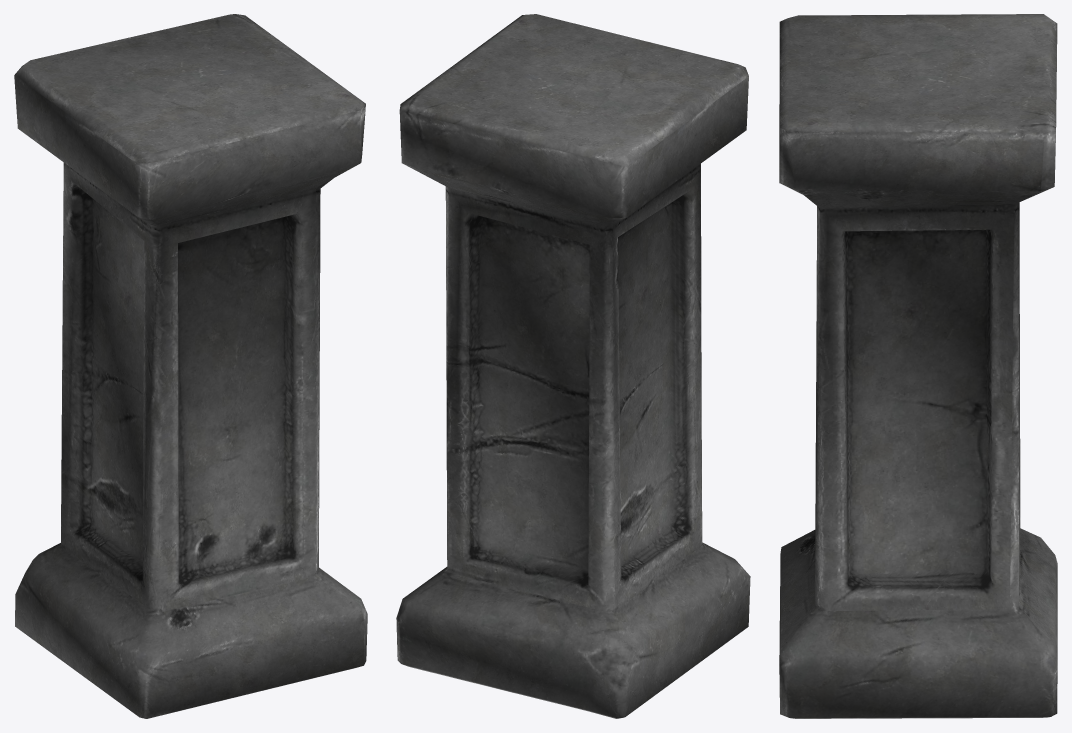
The picture shows the model from 3 angles, left to right: view 1: azimuth 30°, elevation 25°; view 2: azimuth 150°, elevation 25°; view 3: azimuth 270°, elevation 25°; orthographic projection. The views are drawn at different scales.
Parts seen in each view (by area): view 1: Pillar_lp_polypen_Pillar_hp_polypen.002; view 2: Pillar_lp_polypen_Pillar_hp_polypen.002; view 3: Pillar_lp_polypen_Pillar_hp_polypen.002.
Boxes of the visible parts, left/top/right/bottom form: Pillar_lp_polypen_Pillar_hp_polypen.002: left=14, top=14, right=367, bottom=718; Pillar_lp_polypen_Pillar_hp_polypen.002: left=396, top=14, right=750, bottom=718; Pillar_lp_polypen_Pillar_hp_polypen.002: left=779, top=14, right=1057, bottom=718.
Size of the model in its own units: 0.8474 by 2 by 0.8466.
Materials: 1 (1 with a texture image).
